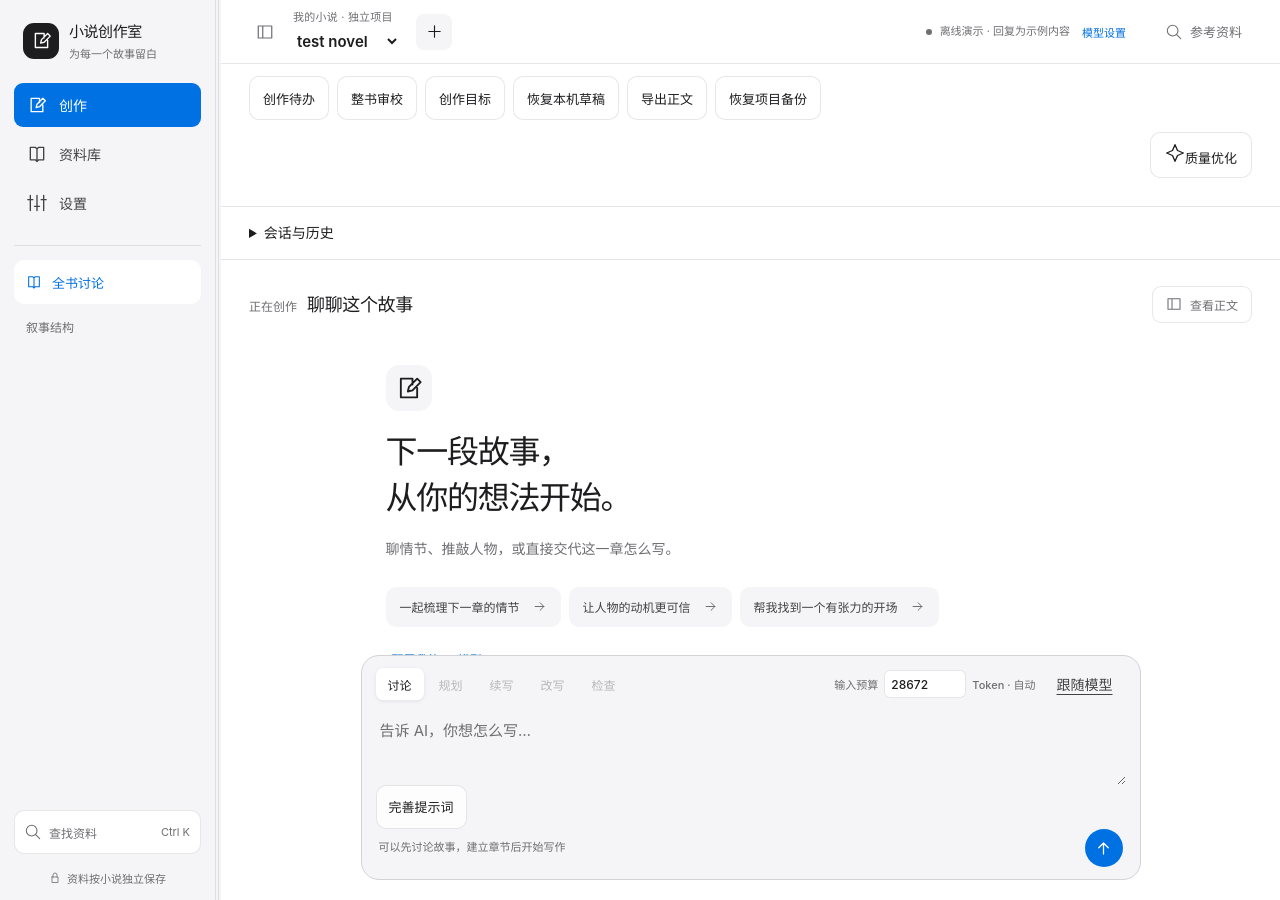
Test: refreshes only chat dependencies and connects feedback and confirmed rules
Click the button named "发送消息" at [1104, 848], box [1084, 829, 1122, 867]
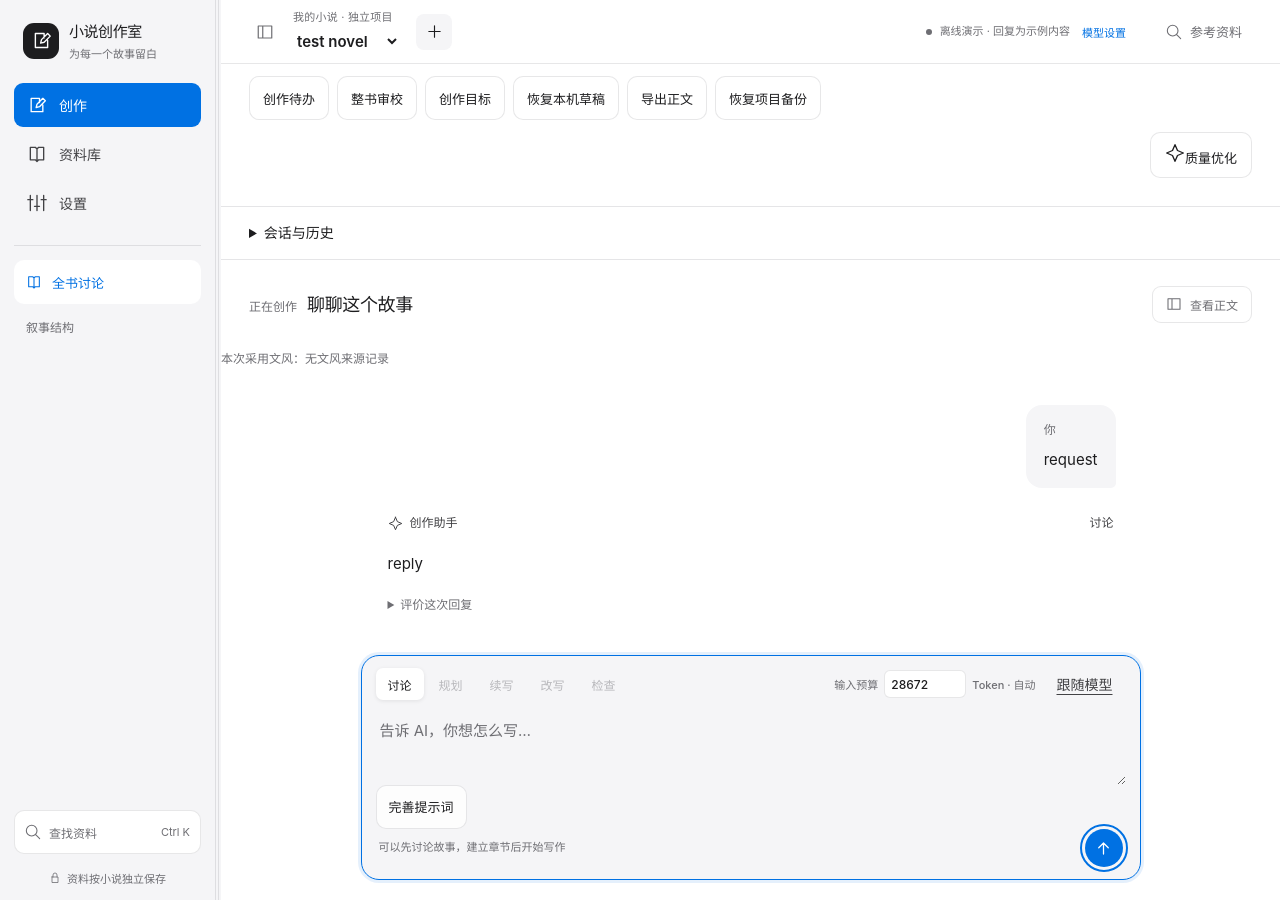
Result: the text "reply" is shown at [388, 554, 423, 573]
Click the heading "评价这次回复" at [436, 604], box [400, 596, 472, 612]
(page scrolled)
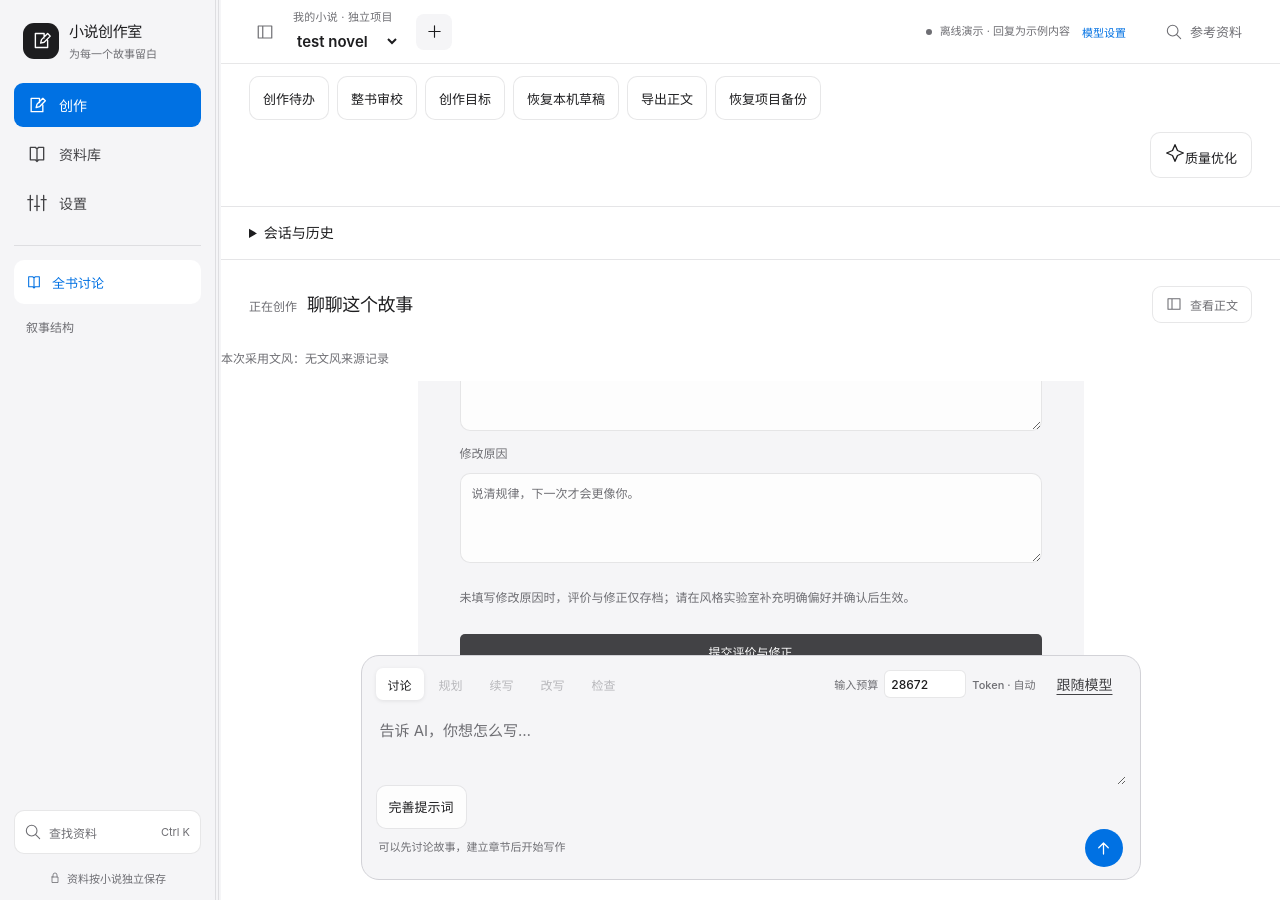
Type "Keep it concise" into the text box labelled "修改原因" at [750, 518], box [460, 473, 1042, 563]
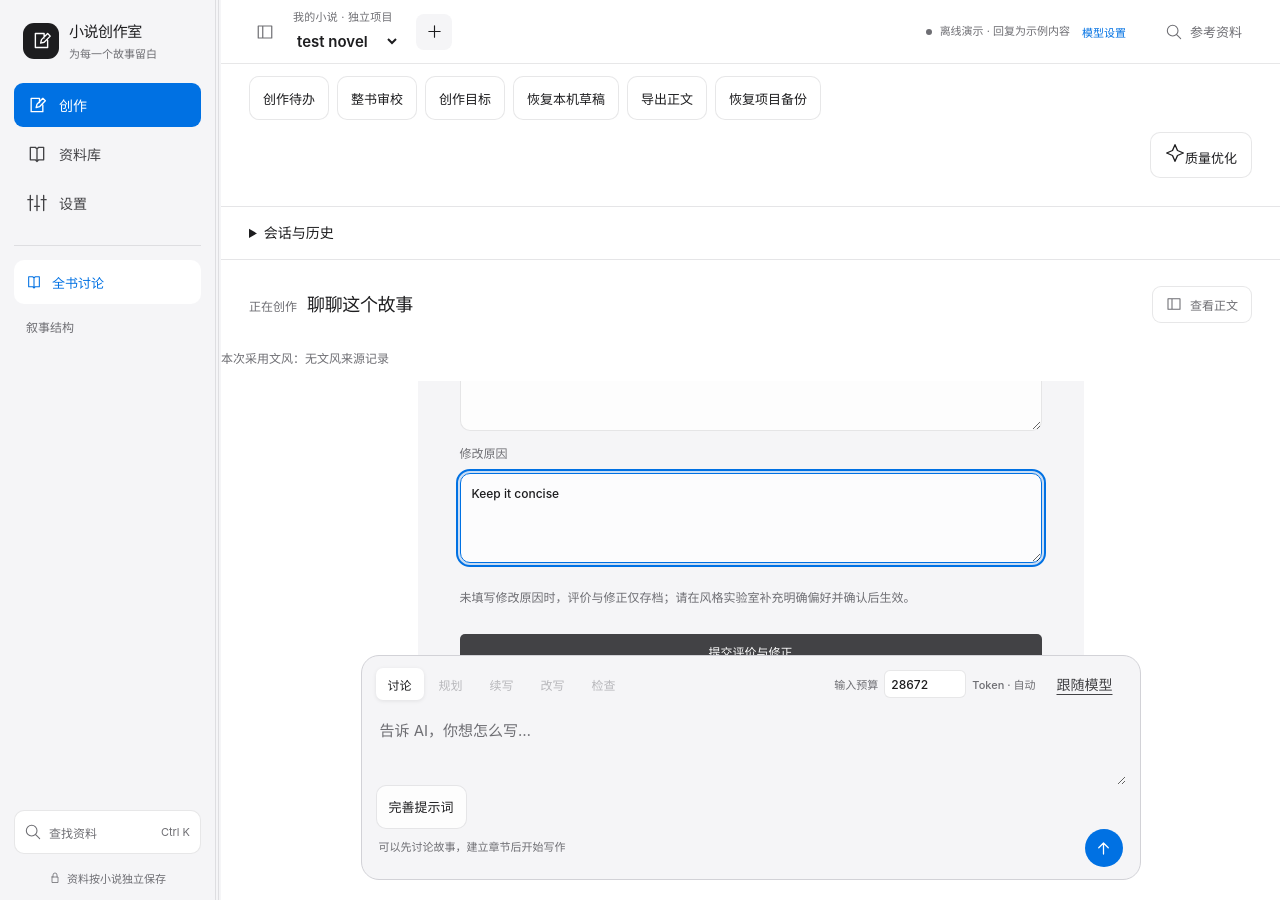
Click the button "提交评价与修正" at [750, 654], box [460, 634, 1042, 674]
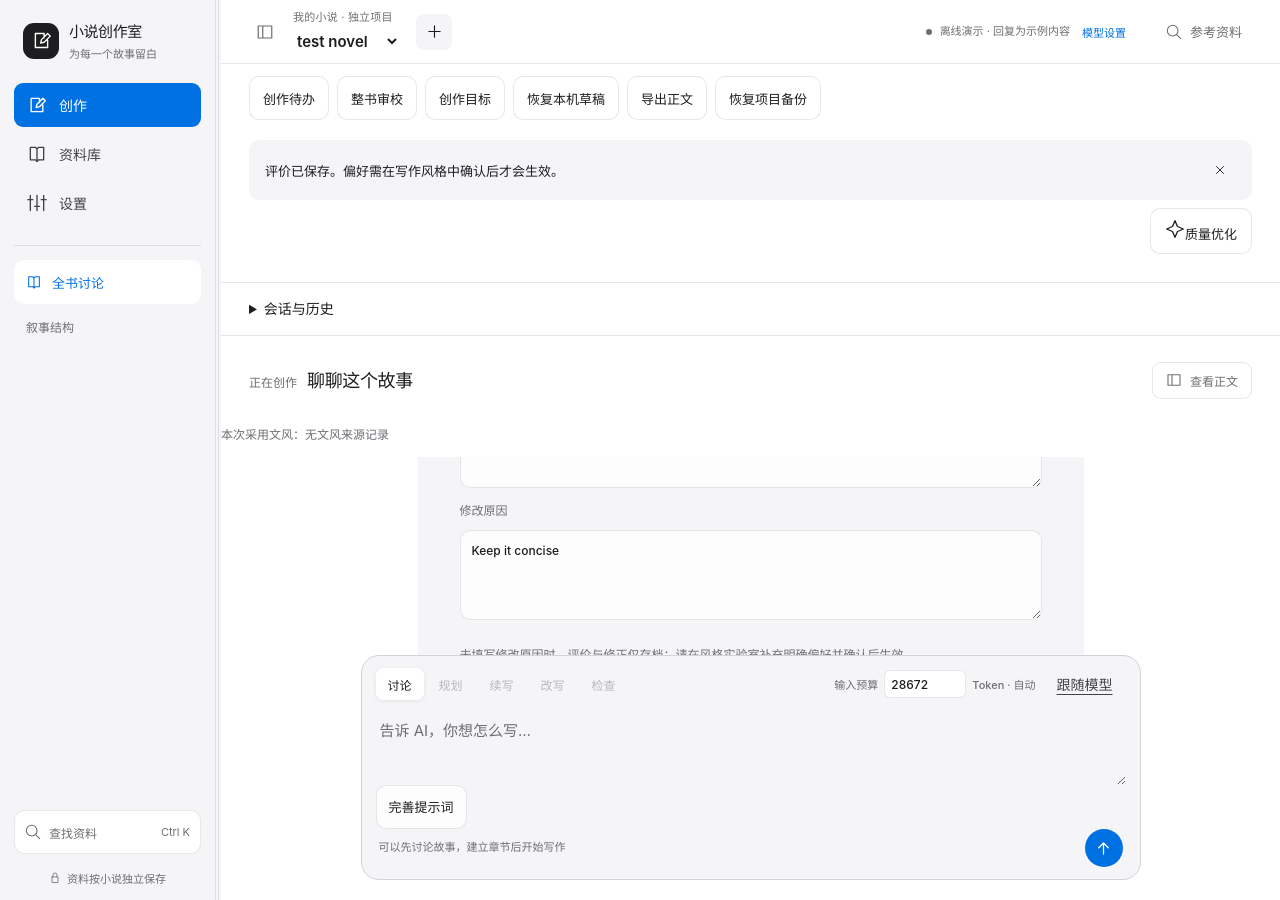
Click the button "资料库" at [108, 154], box [14, 132, 201, 176]
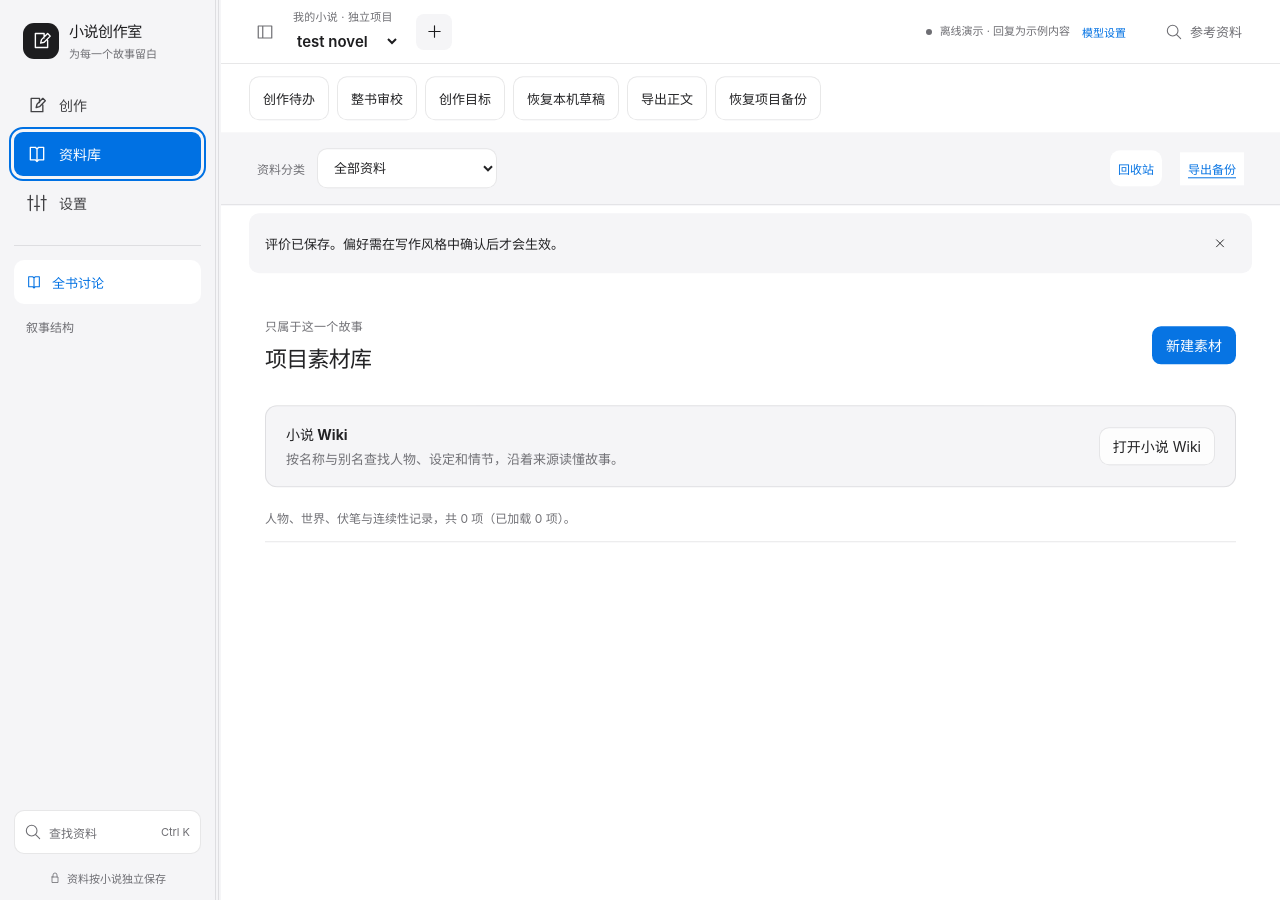
Select "写作风格" in the dropdown named "资料工作区" at [407, 168], box [317, 148, 497, 188]
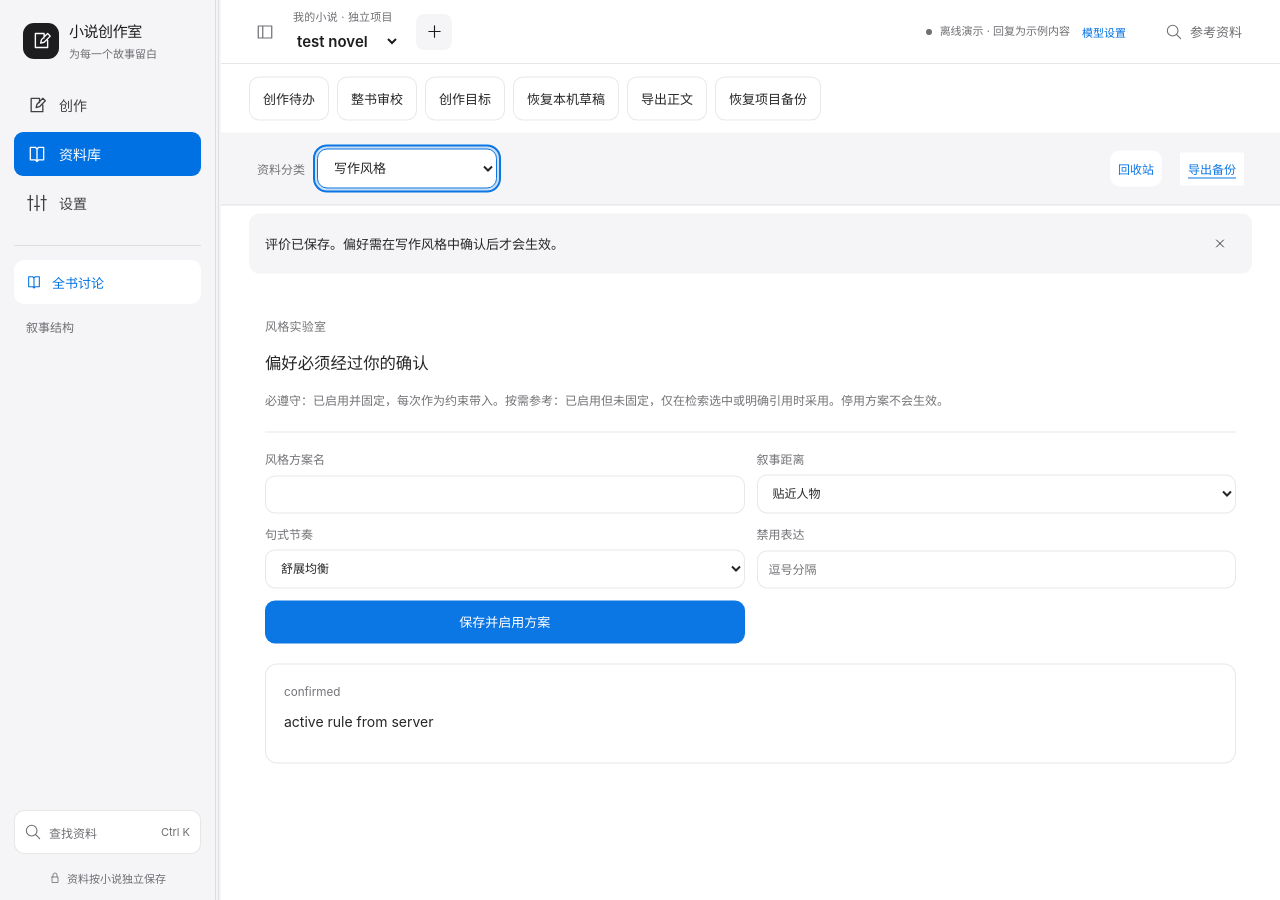
Result: the text "active rule from server" is shown at [284, 713, 434, 730]
